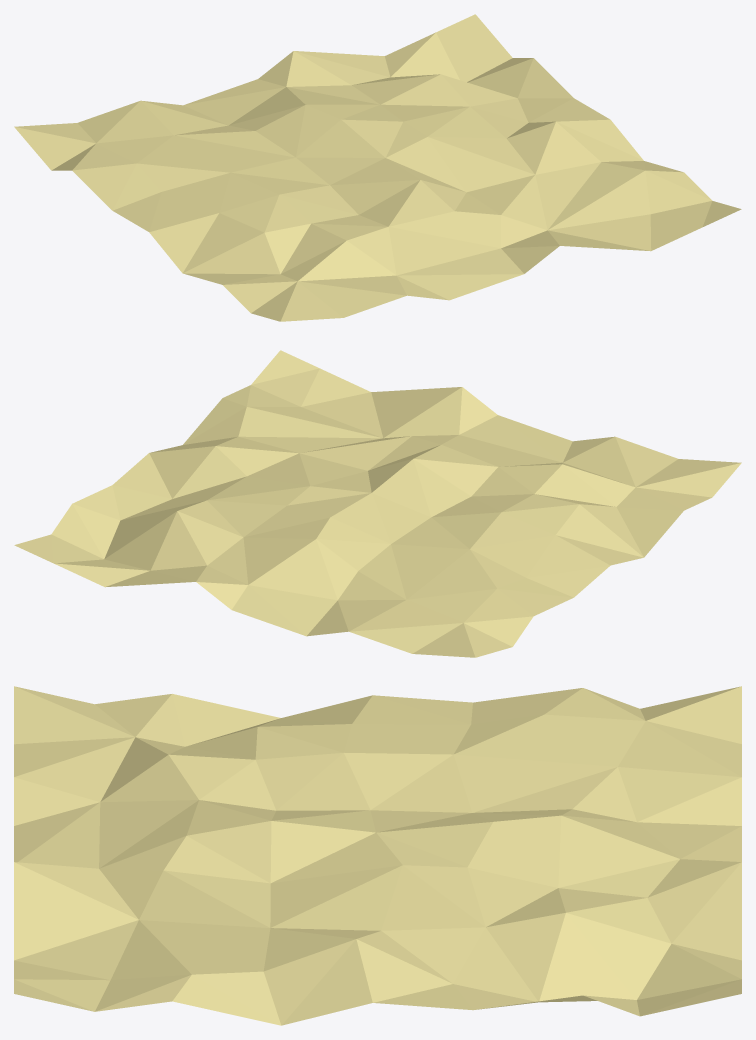
The model's file is Ground1.fbx.
3 renders of one model, top to bottom at view 1: azimuth 30°, elevation 25°; view 2: azimuth 150°, elevation 25°; view 3: azimuth 270°, elevation 25°, orthographic. The views are drawn at different scales.
Parts seen in each view (by area): view 1: Ground1; view 2: Ground1; view 3: Ground1.
Boxes of the visible parts, x1,y1,x2,y2 form: Ground1: (14, 14, 741, 321); Ground1: (14, 350, 741, 657); Ground1: (14, 686, 741, 1025).
Size of the model in its own units: 4 by 0.3797 by 4.
